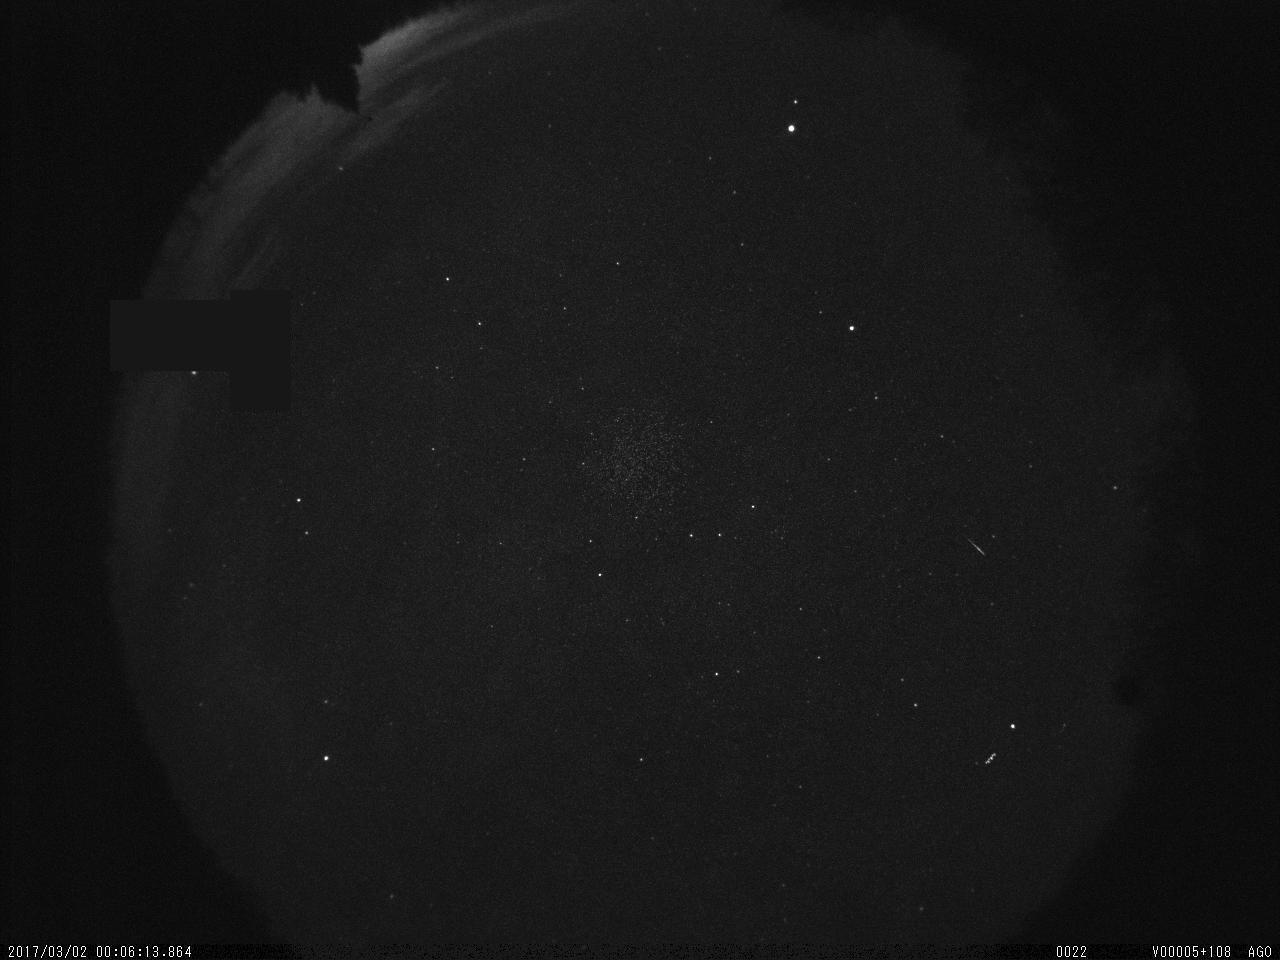Meteor: (963, 533, 988, 558)
